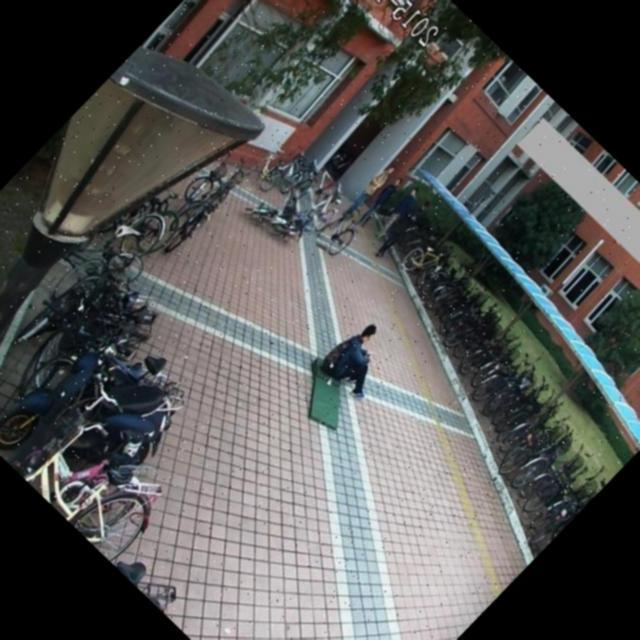person: (313, 315, 410, 412), (370, 190, 438, 260), (332, 158, 400, 227), (346, 170, 410, 236), (361, 180, 425, 245)
